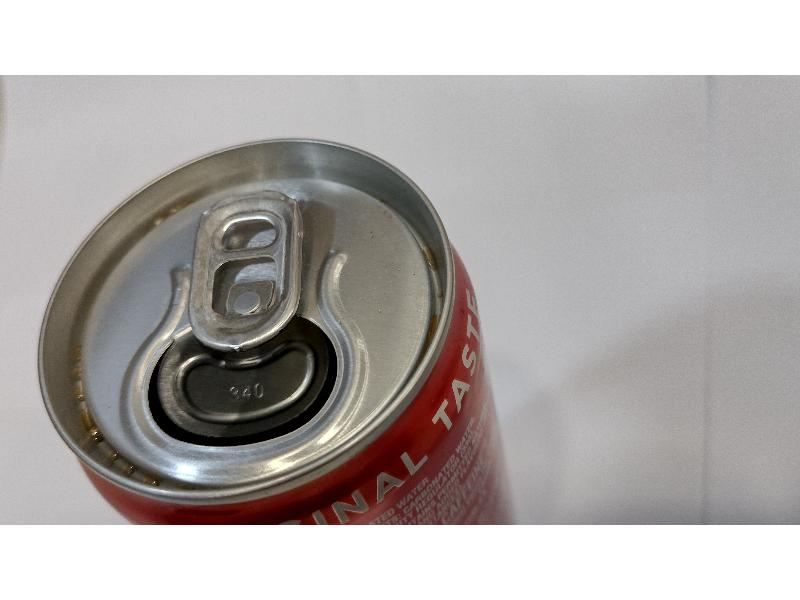can: (29, 134, 529, 524)
